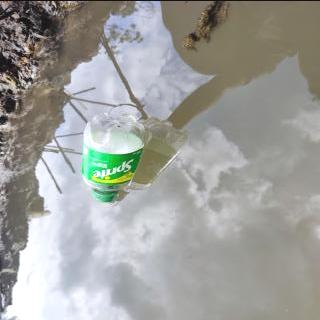bottle: (80, 109, 148, 204)
